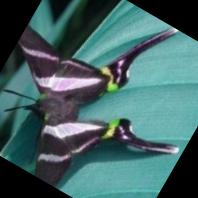butterfly: (17, 27, 178, 187)
